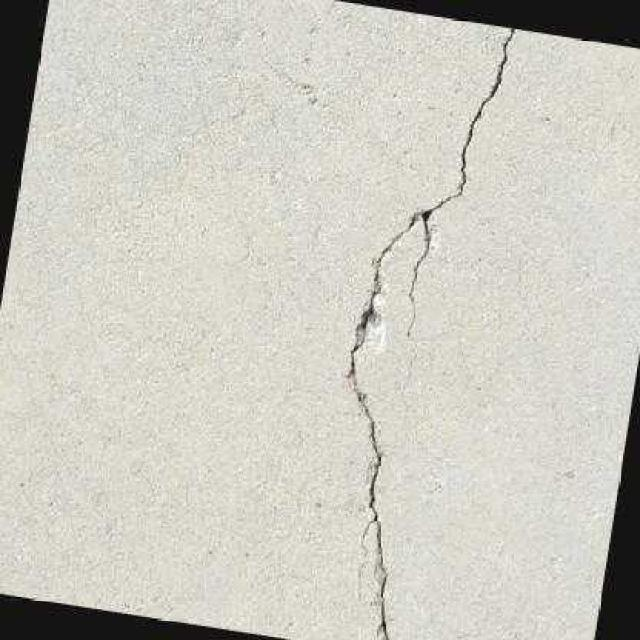D00: (344, 26, 514, 640)
